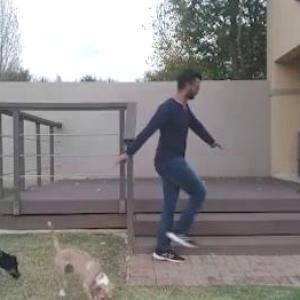land: (88, 63, 229, 267)
